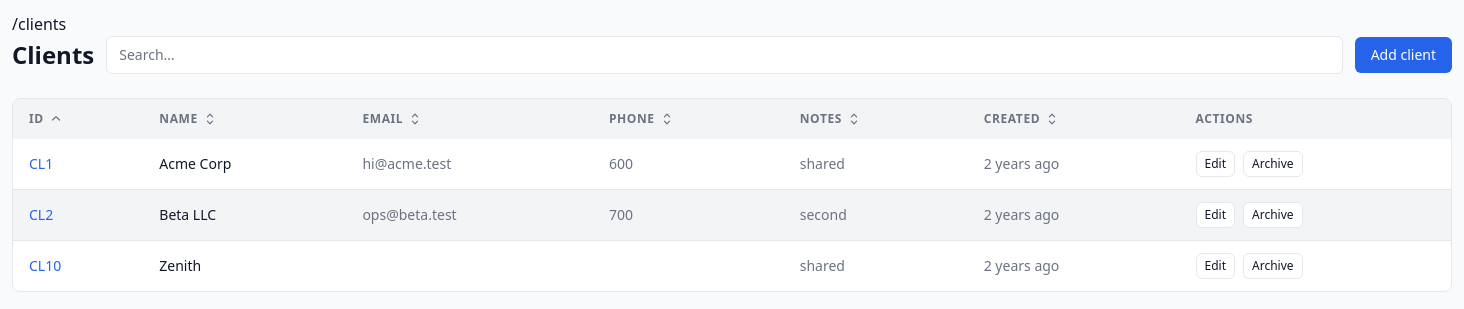
Test case: ClientsPage › fuzzy-filters rows and shows the no-matches message
The width and height of the screenshot is (1464, 309).
Step 1. Type "Beta" into the search field → (724, 55), box [106,36,1343,74]
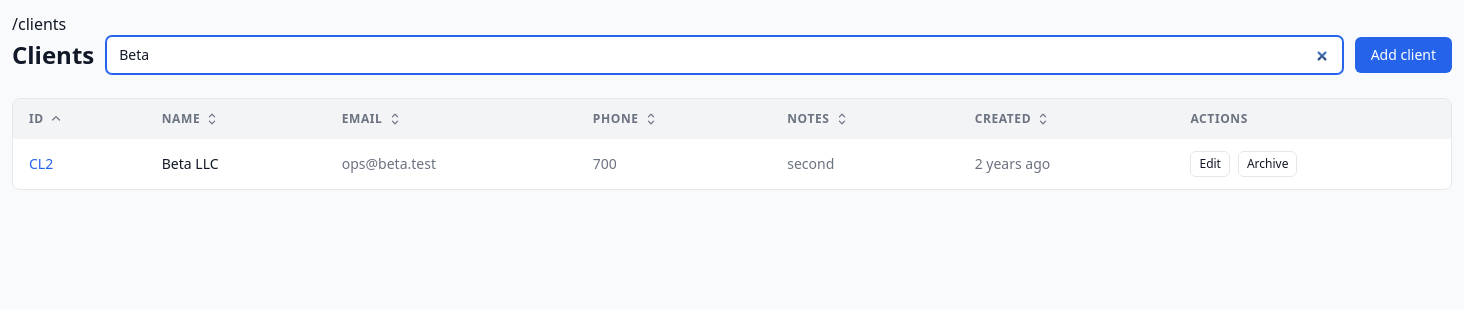
Step 2. Replace the text in the search field with "zzzznomatch" → (724, 55), box [106,36,1343,74]
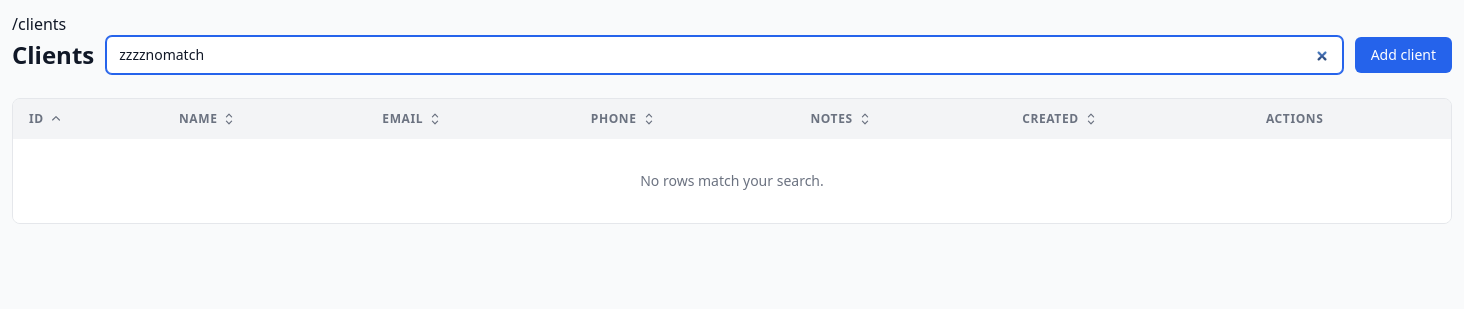
expect the text "No rows match your search." is shown: met, box [13,139,1451,223]
